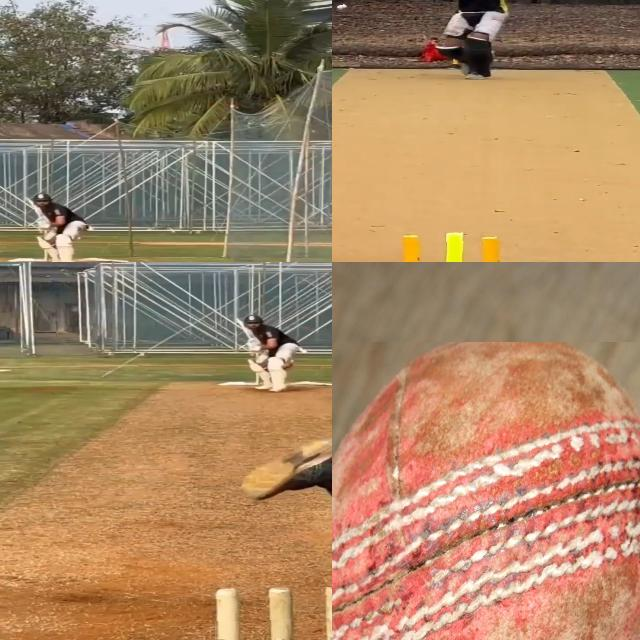Cricket ball: (332, 342, 640, 640), (280, 363, 294, 370), (77, 225, 91, 231), (336, 4, 348, 11)
Stumps: (213, 587, 332, 640)
